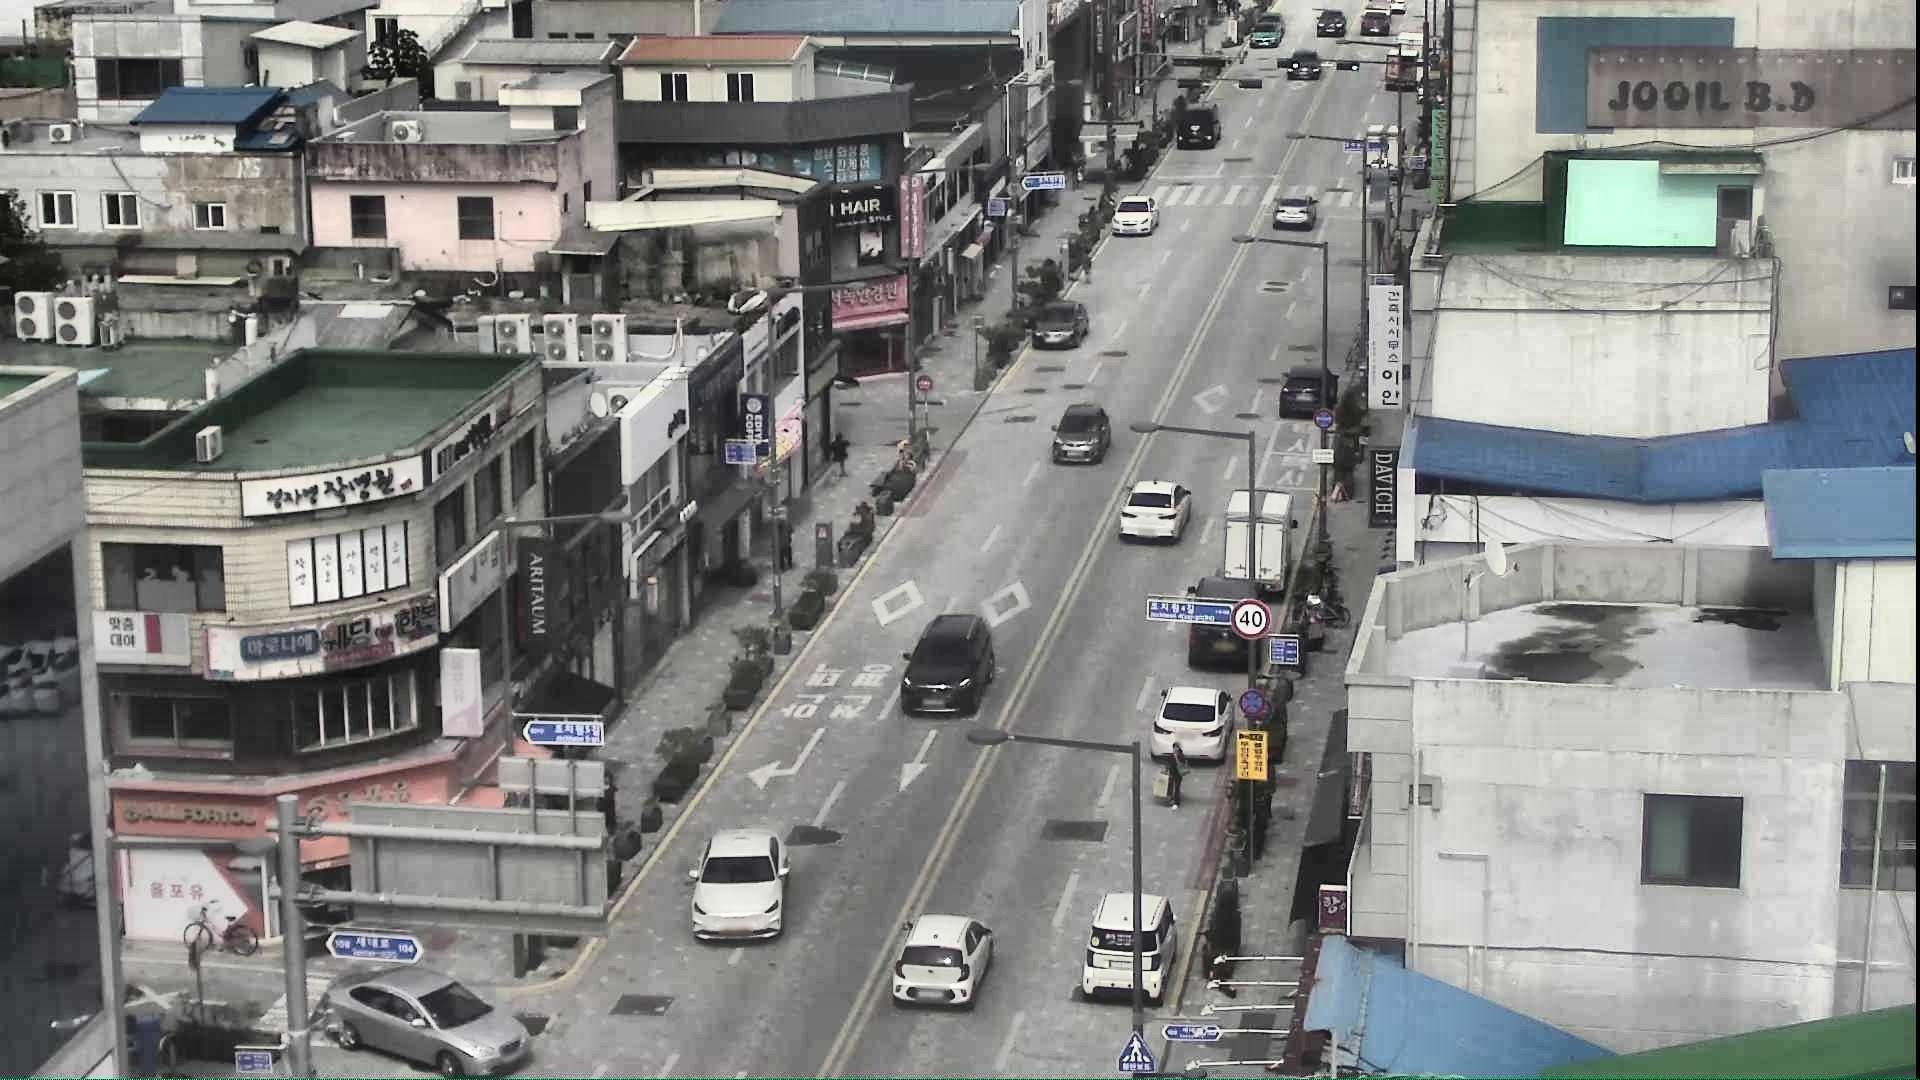jaywalk: (1160, 738, 1189, 810), (1080, 243, 1096, 287)
sidewalk: (773, 516, 796, 574), (829, 433, 852, 483), (603, 771, 620, 822)
